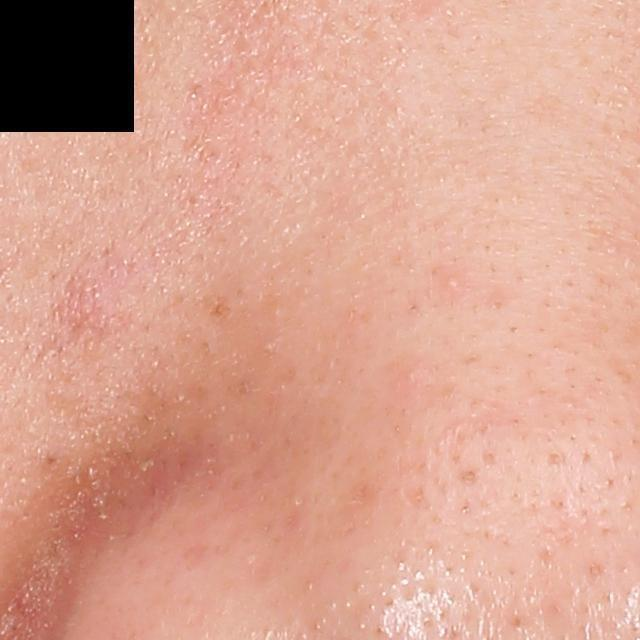comedo: (443, 274, 463, 293)
